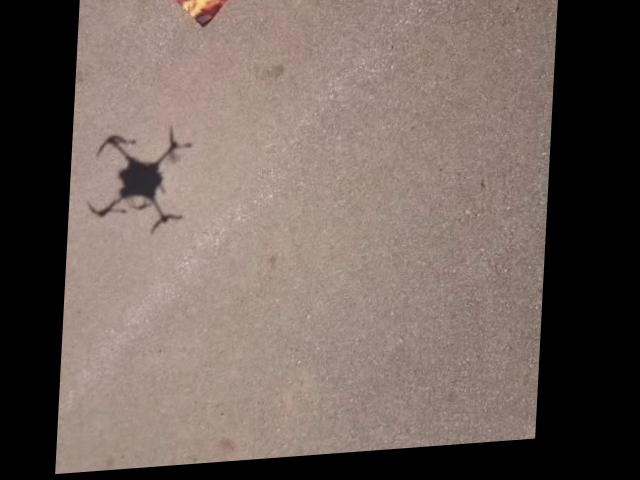fire-poster: (124, 0, 276, 35)
